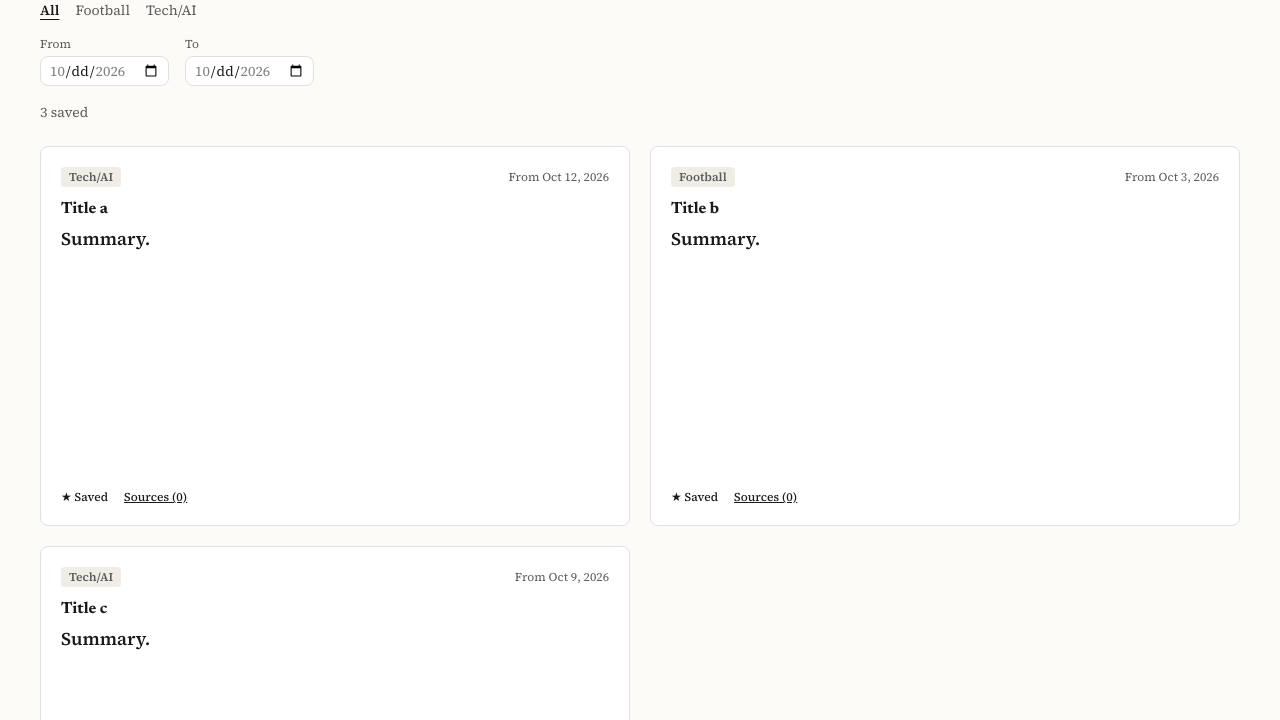
Test: SavedList › asks before removing, and Cancel keeps the card and sends nothing
Step 1. Click the 1st button "★ Saved" → [85, 497], box x1=61 y1=489 x2=108 y2=505
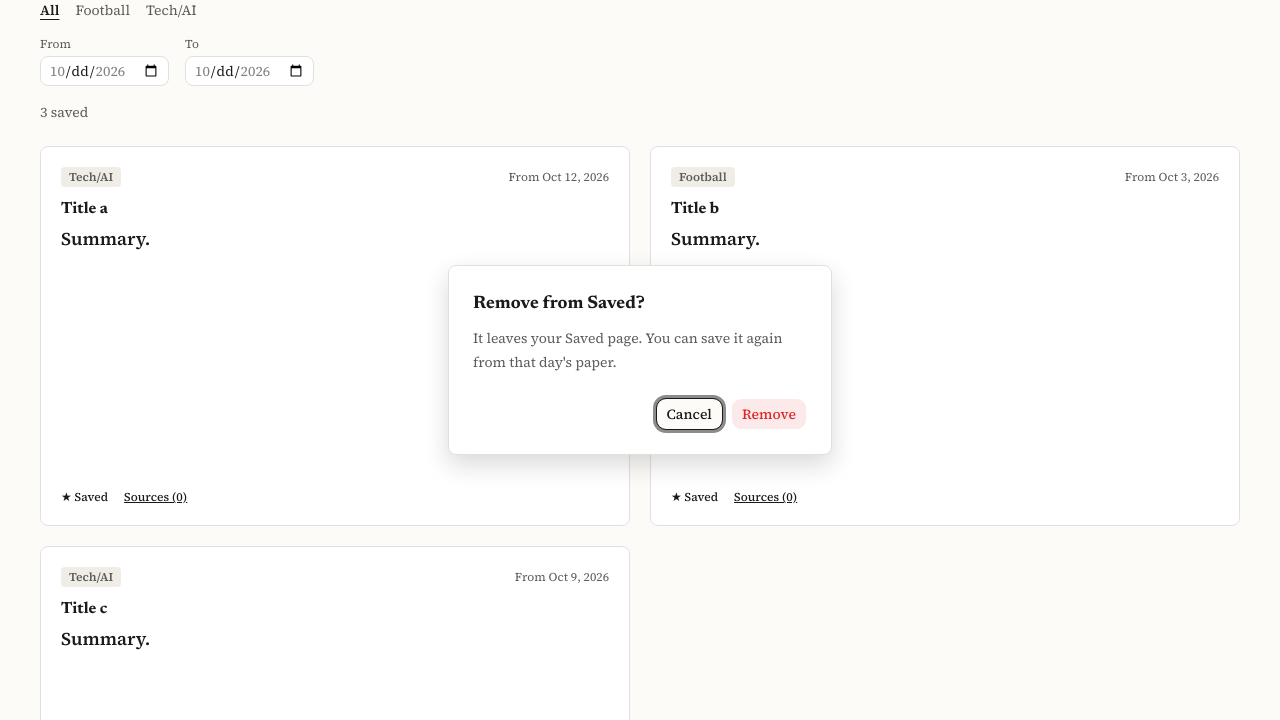
Result: the dialog shows "Remove from Saved?" at x1=473 y1=295 x2=645 y2=313
Step 2. Click the button "Cancel" → [689, 414], box x1=656 y1=398 x2=723 y2=430
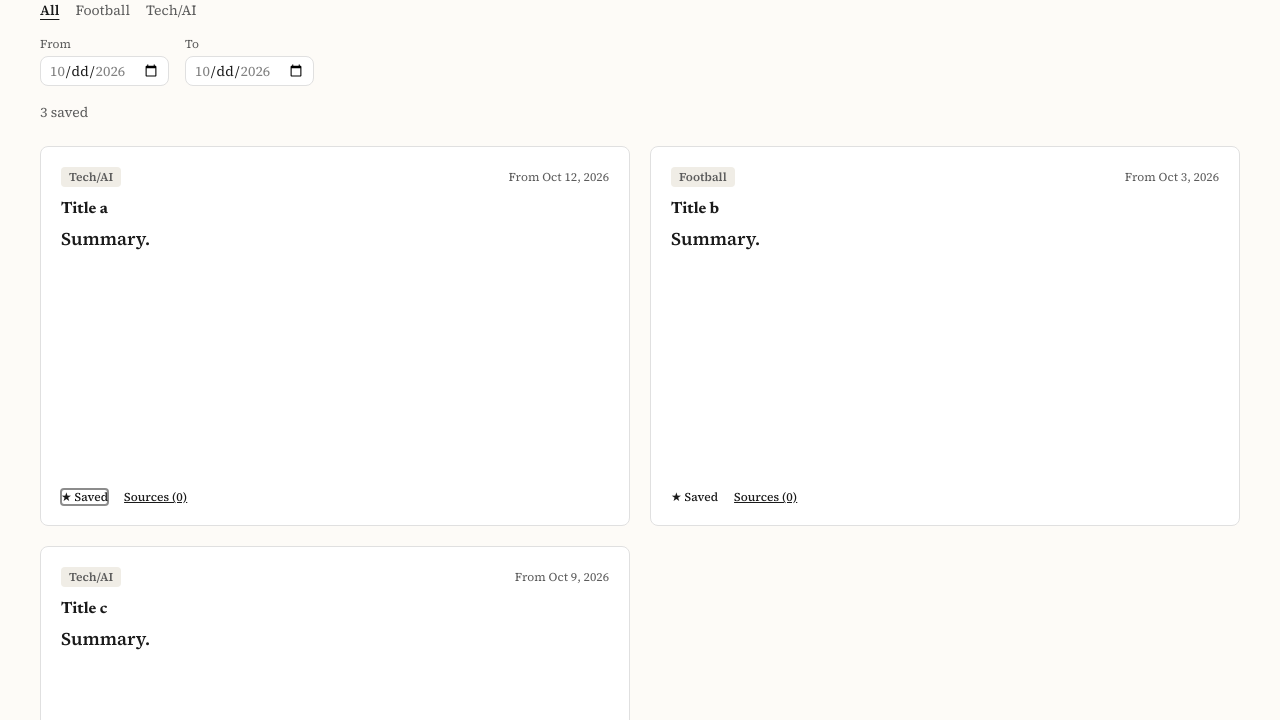
Expected: the 1st button "★ Saved" is shown, x1=61 y1=489 x2=108 y2=505
Result: the dialog is gone
